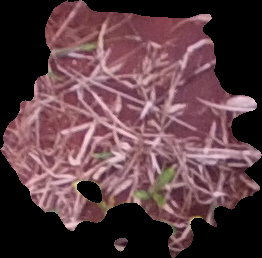soil: (2, 3, 259, 255)
